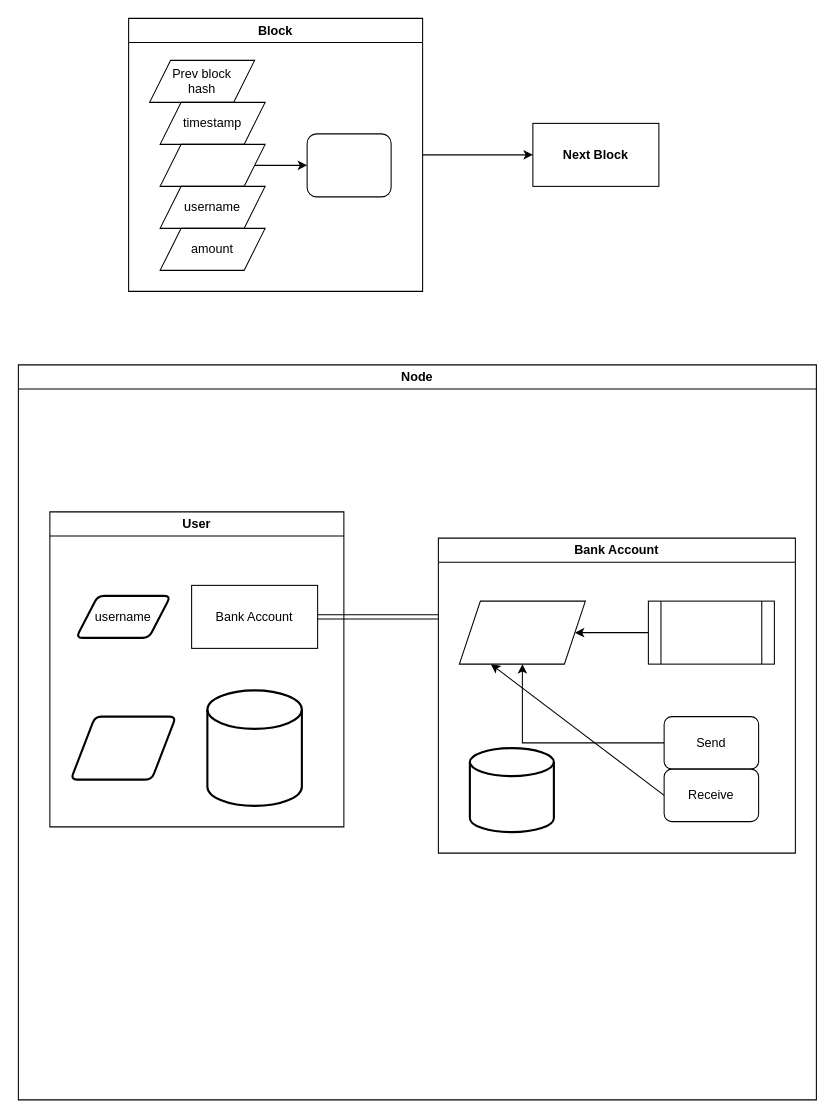
Some shapes in this 835 by 1118 pixel diagram are drawn without their labels. The centre of each missing label's shape, as x and y in pixels:
Account Balance: (x=521, y=632)
Account Statement: (x=511, y=790)
actionType: (x=212, y=164)
AI Model Credentials: (x=122, y=747)
BL Ledger: (x=254, y=747)
Job payment cycle: (x=710, y=632)
lend/pay: (x=348, y=165)
